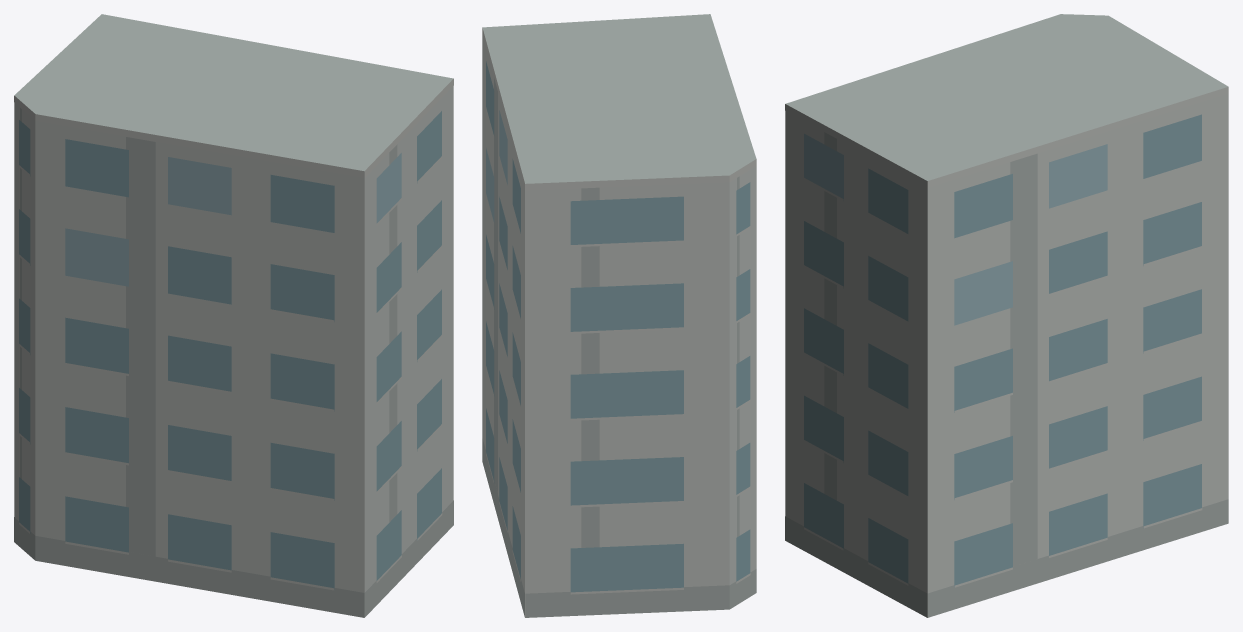
File: survey-upis-32806713.glb
3 renders of one model, left to right at view 1: azimuth 30°, elevation 25°; view 2: azimuth 150°, elevation 25°; view 3: azimuth 270°, elevation 25°, orthographic. The views are drawn at different scales.
Parts seen in each view (by area): view 1: survey-upis-32806713.tmp; view 2: survey-upis-32806713.tmp; view 3: survey-upis-32806713.tmp.
Boxes of the visible parts, x1,y1,x2,y2 form: survey-upis-32806713.tmp: [14, 14, 453, 617]; survey-upis-32806713.tmp: [482, 14, 756, 617]; survey-upis-32806713.tmp: [785, 14, 1228, 617].
Size of the model in its own units: 12.64 by 15.4 by 14.18.
